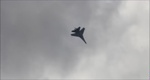maybay_muctieu: (71, 27, 89, 43)
